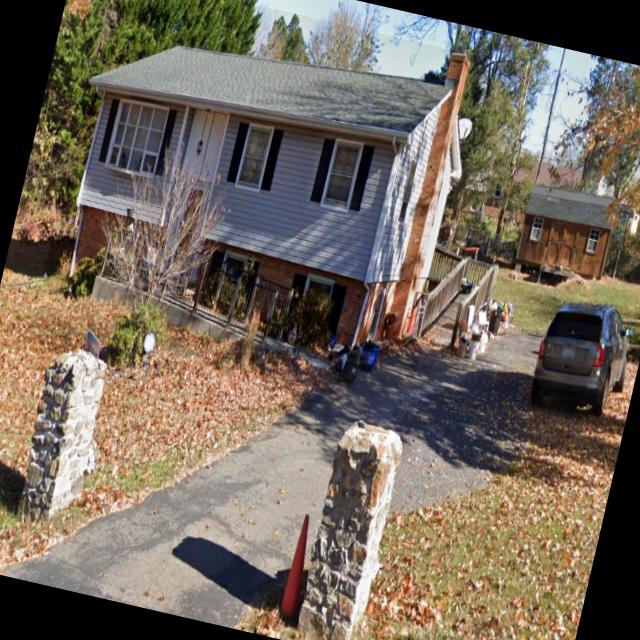House: (41, 0, 488, 371)
